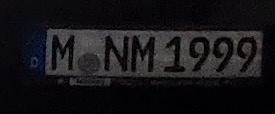1: (162, 35, 187, 74)
9: (211, 35, 236, 75), (235, 35, 259, 74), (188, 35, 211, 73)
M: (49, 32, 77, 72), (130, 33, 157, 74)
N: (102, 33, 130, 73)
